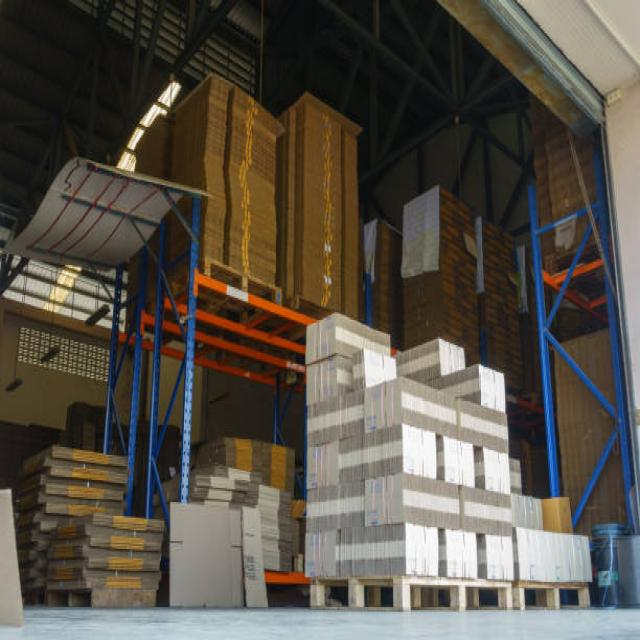Wooden-Pallets: (301, 568, 519, 625), (198, 244, 287, 307), (516, 573, 595, 615)
